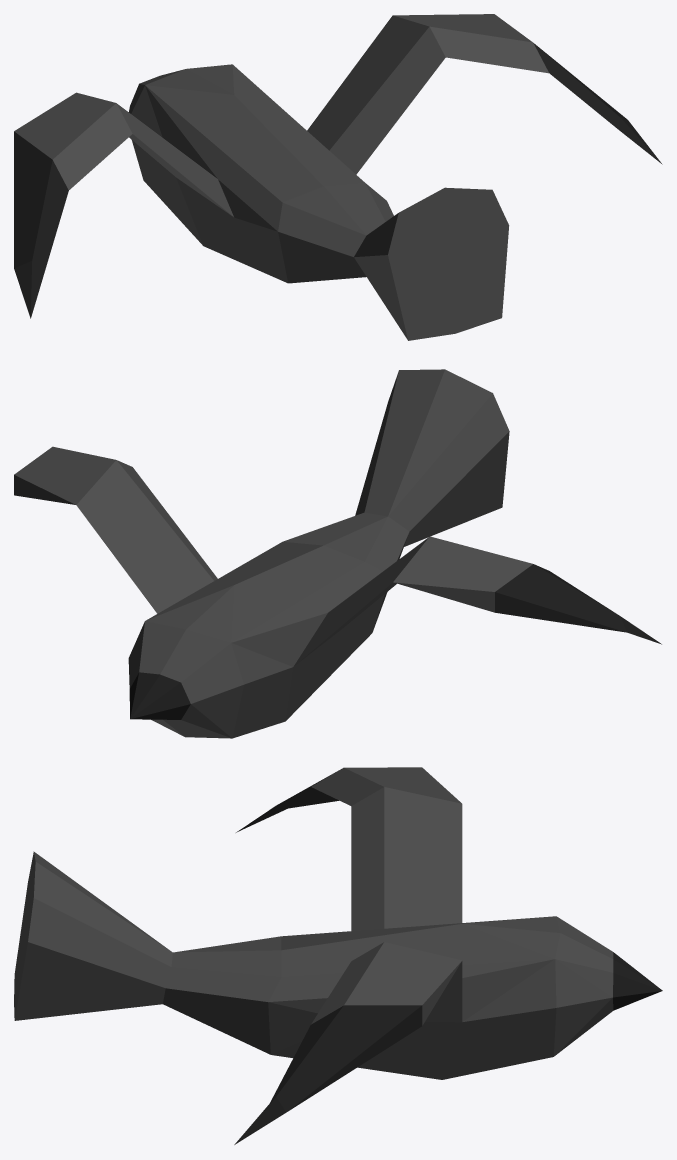
Rendered from Bird.fbx.
The picture shows the model from 3 angles, top to bottom: view 1: azimuth 30°, elevation 25°; view 2: azimuth 150°, elevation 25°; view 3: azimuth 270°, elevation 25°; orthographic projection.
Visible parts, largest first — view 1: M_ Birds; view 2: M_ Birds; view 3: M_ Birds.
Part boxes in pixels (x1,y1,x2,y2): M_ Birds: (14,14,662,340); M_ Birds: (14,369,661,738); M_ Birds: (14,767,662,1144).
Bounding box in the file's own units: 0.2594 × 0.0809 × 0.2275.
Materials: 1 (1 with a texture image).
